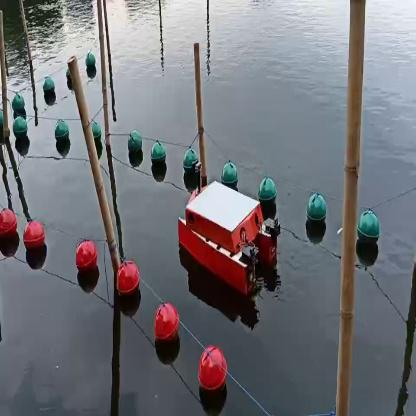green_buoy: (358, 211, 378, 255), (148, 138, 166, 173), (308, 194, 322, 230), (222, 160, 238, 188), (260, 176, 274, 207), (55, 120, 69, 150), (126, 130, 140, 154), (14, 118, 28, 142), (92, 122, 104, 146), (184, 150, 196, 170), (43, 81, 54, 102), (86, 54, 96, 75), (12, 98, 24, 113)
red_buoy: (150, 294, 183, 350), (194, 346, 228, 400), (113, 261, 139, 303), (20, 224, 48, 260), (0, 204, 18, 249), (75, 243, 97, 275)
